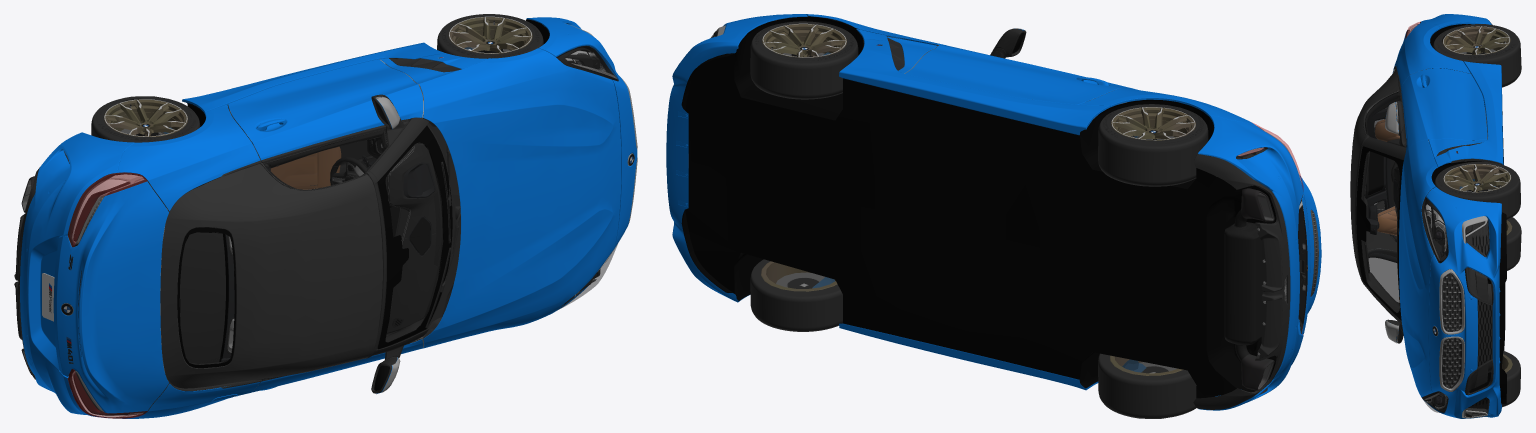
3 views of the same model, side by side, from view 1: azimuth 30°, elevation 25°; view 2: azimuth 150°, elevation 25°; view 3: azimuth 270°, elevation 25° (orthographic). The views are drawn at different scales.
Visible parts, largest first — view 1: body_mesh, wheel_RL_mesh, wheel_FL_mesh; view 2: body_mesh, wheel_RL_mesh, wheel_FL_mesh, wheel_FR_mesh, wheel_RR_mesh; view 3: body_mesh, wheel_RL_mesh, wheel_FL_mesh, wheel_FR_mesh, wheel_RR_mesh.
Boxes of the visible parts, left/top/right/bottom form: body_mesh: left=14, top=17, right=637, bottom=418; wheel_RL_mesh: left=91, top=96, right=200, bottom=142; wheel_FL_mesh: left=437, top=14, right=543, bottom=58; body_mesh: left=666, top=14, right=1321, bottom=410; wheel_RL_mesh: left=1098, top=104, right=1208, bottom=186; wheel_FL_mesh: left=750, top=21, right=858, bottom=99; wheel_FR_mesh: left=750, top=259, right=842, bottom=331; wheel_RR_mesh: left=1098, top=353, right=1196, bottom=418; body_mesh: left=1350, top=14, right=1506, bottom=418; wheel_RL_mesh: left=1433, top=24, right=1521, bottom=87; wheel_FL_mesh: left=1434, top=162, right=1520, bottom=219; wheel_FR_mesh: left=1502, top=350, right=1520, bottom=407; wheel_RR_mesh: left=1506, top=217, right=1521, bottom=270.
Size of the model in its own units: 4.32 by 2.03 by 1.31.
Materials: 22 (15 with a texture image).
